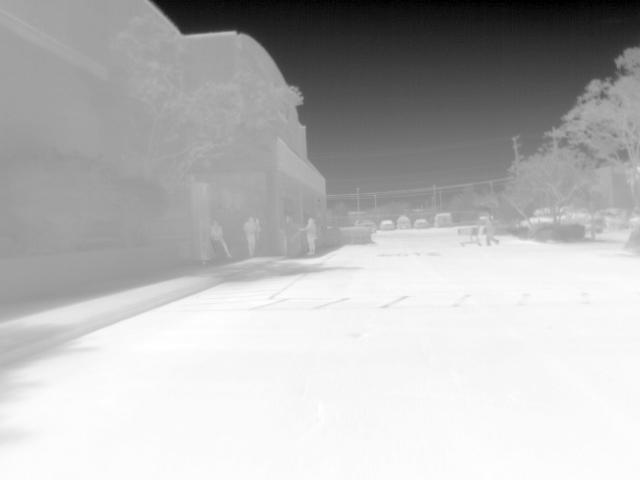car: (356, 218, 379, 234), (431, 212, 454, 227), (397, 212, 415, 230), (381, 218, 398, 232), (414, 214, 430, 228)
person: (209, 220, 236, 262), (300, 217, 319, 258), (243, 214, 259, 258), (482, 220, 501, 248)
